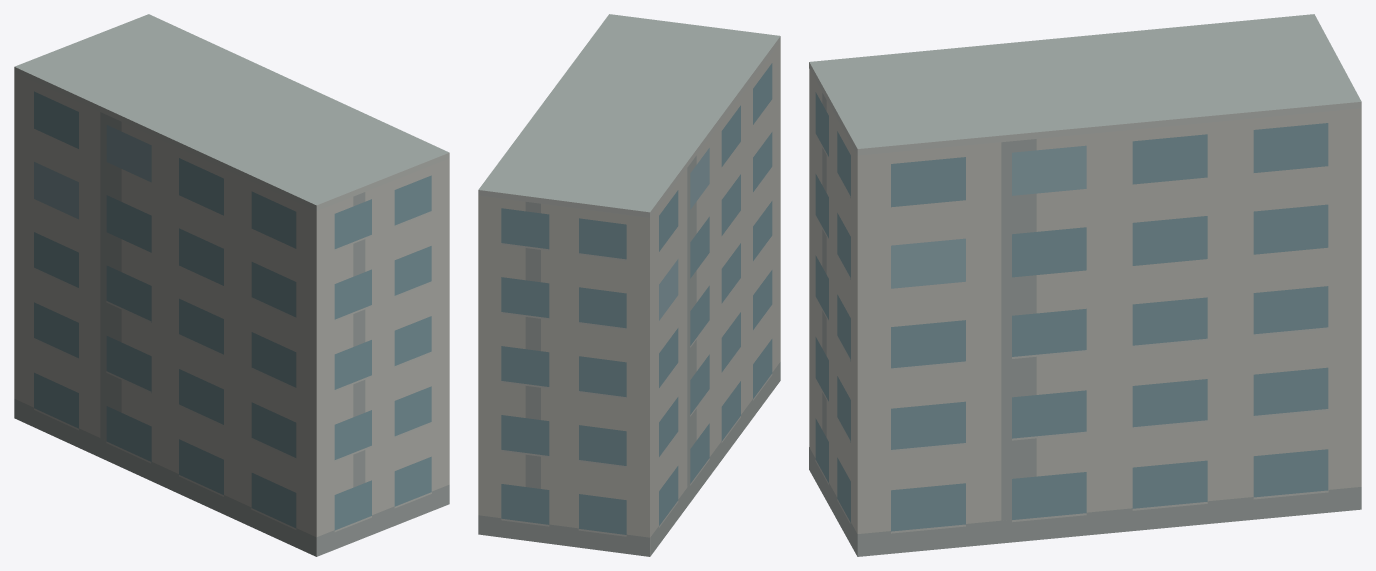
Rendered from survey-upis-32961335.glb.
The picture shows the model from 3 angles, left to right: view 1: azimuth 30°, elevation 25°; view 2: azimuth 150°, elevation 25°; view 3: azimuth 270°, elevation 25°; orthographic projection. The views are drawn at different scales.
Parts seen in each view (by area): view 1: survey-upis-32961335.tmp; view 2: survey-upis-32961335.tmp; view 3: survey-upis-32961335.tmp.
Boxes of the visible parts, bbox=[...] form: survey-upis-32961335.tmp: bbox=[14, 14, 449, 556]; survey-upis-32961335.tmp: bbox=[478, 14, 780, 556]; survey-upis-32961335.tmp: bbox=[809, 14, 1361, 556].
Bounding box in the file's own units: 10.59 × 14.9 × 18.3.
